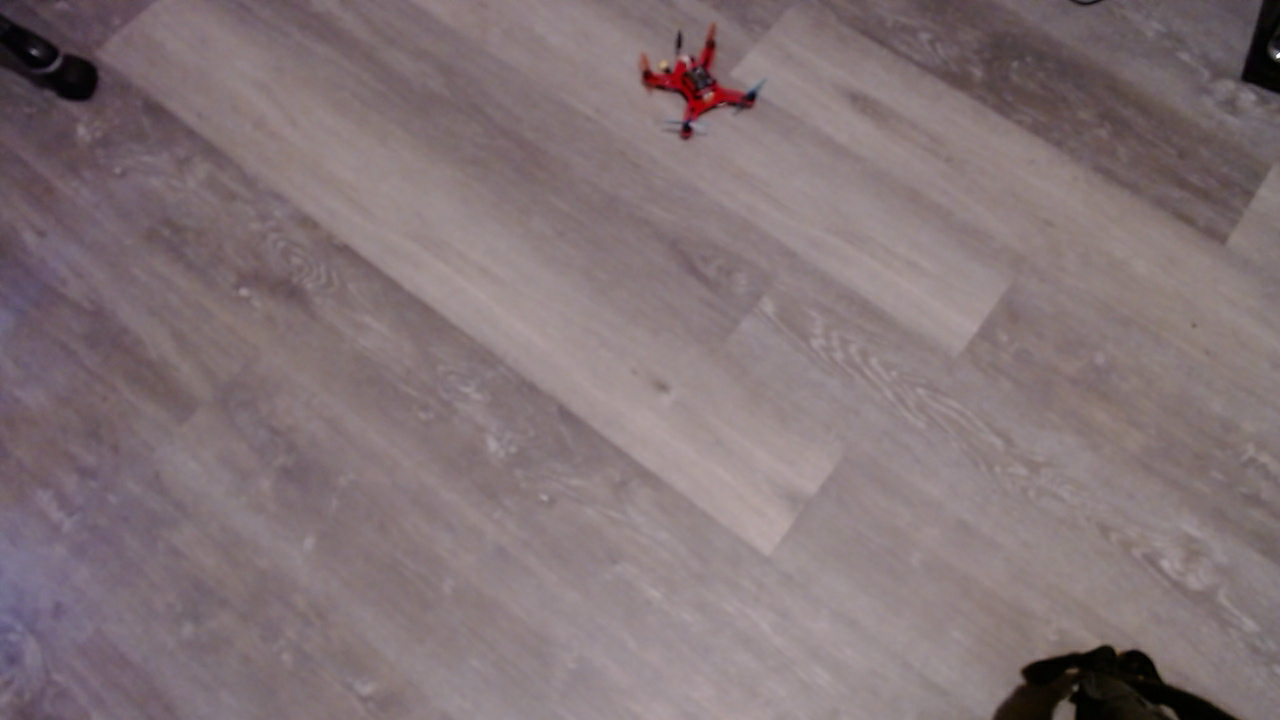crazyflie: (635, 28, 778, 147)
